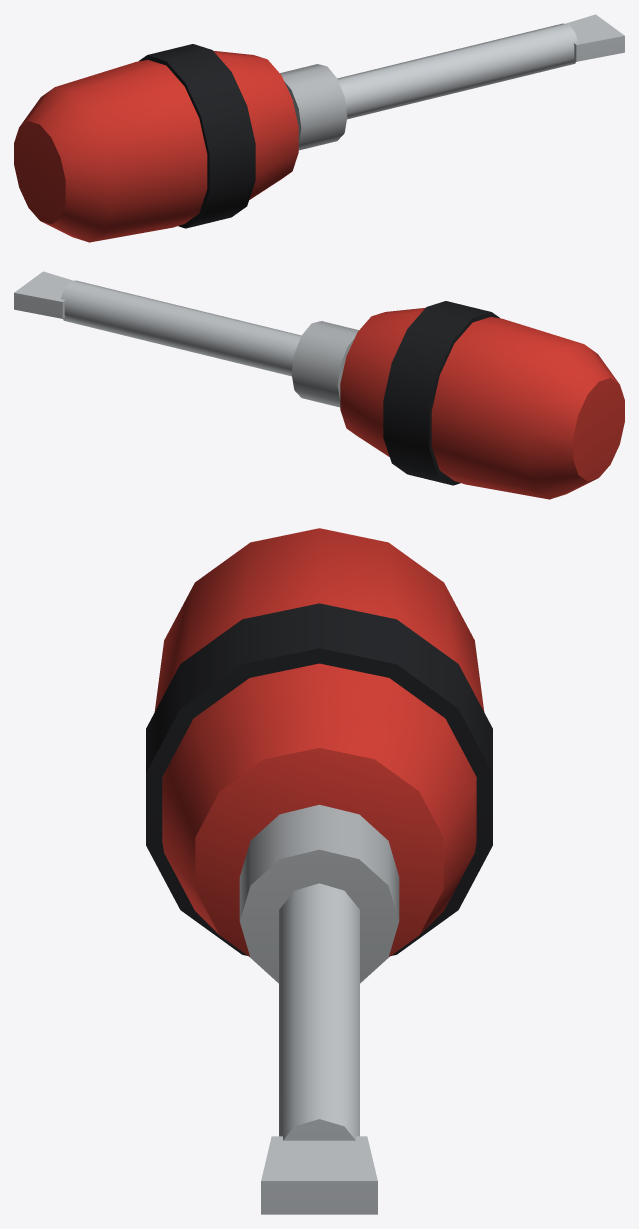
Rendered from SM_Screwdriver_Flat_01.glb.
3 renders of one model, top to bottom at view 1: azimuth 30°, elevation 25°; view 2: azimuth 150°, elevation 25°; view 3: azimuth 270°, elevation 25°, orthographic. The views are drawn at different scales.
Visible parts, largest first — view 1: SM_Screwdriver_Flat_01; view 2: SM_Screwdriver_Flat_01; view 3: SM_Screwdriver_Flat_01.
Boxes of the visible parts, x1,y1,x2,y2 form: SM_Screwdriver_Flat_01: (14, 14, 624, 242); SM_Screwdriver_Flat_01: (14, 271, 624, 499); SM_Screwdriver_Flat_01: (146, 528, 492, 1214).
Bounding box in the file's own units: 0.248 × 0.067 × 0.0653.
Materials: 1 (1 with a texture image).
